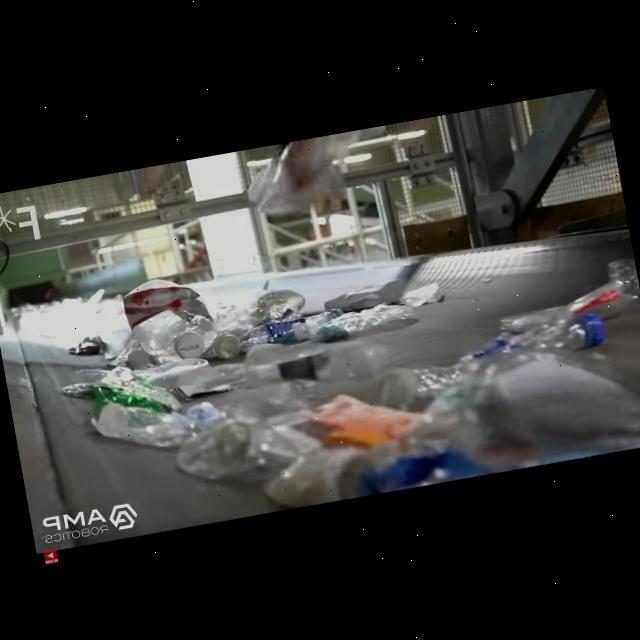trash: (454, 304, 610, 376), (91, 384, 225, 457), (291, 294, 416, 348), (130, 297, 220, 370), (85, 356, 176, 424), (234, 304, 348, 352), (544, 272, 638, 324), (250, 284, 308, 320)
